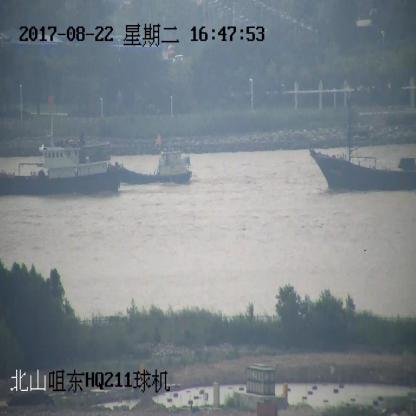Fishing Boat: (0, 99, 122, 196), (309, 101, 416, 193), (113, 135, 193, 186)
